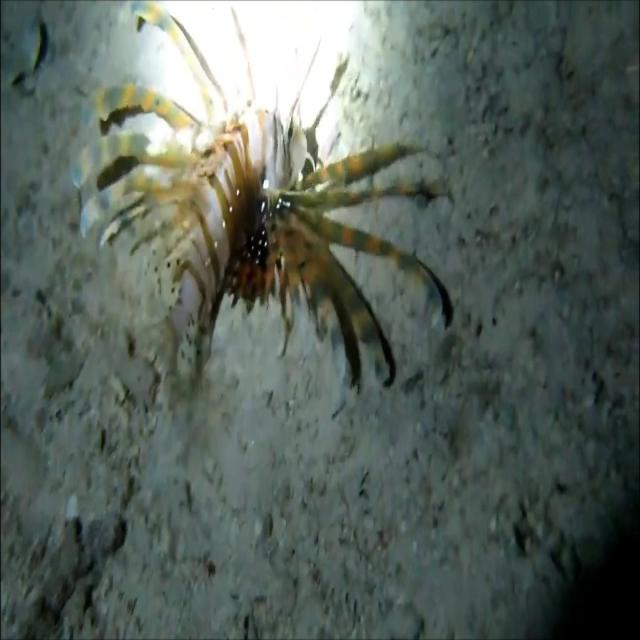Lionfish -Endangered- -Poisonous-: (93, 6, 453, 390)
